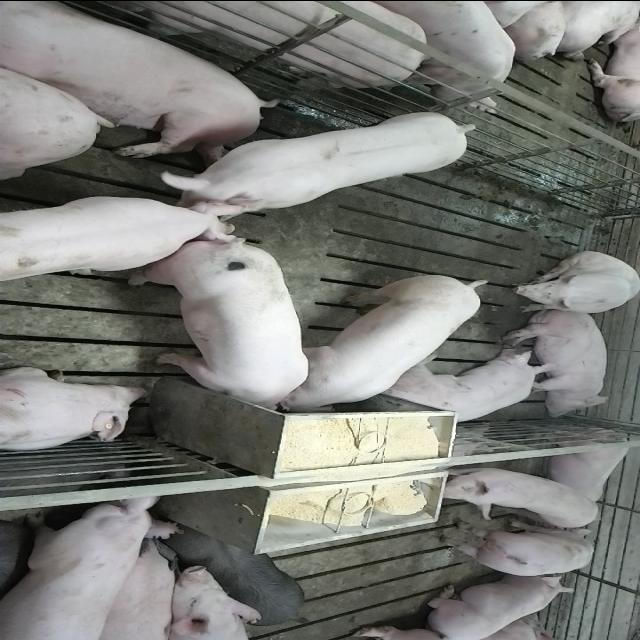Feeding: (126, 243, 308, 419), (280, 270, 496, 411)
Lateral_lying: (499, 307, 612, 416)
Sitting: (504, 250, 638, 314)
Standing: (0, 0, 439, 88), (160, 108, 484, 220), (0, 494, 182, 638), (0, 188, 242, 280), (376, 2, 516, 114), (178, 526, 308, 625), (430, 464, 600, 530), (87, 540, 183, 640), (450, 528, 602, 580)
Sternal_lying: (380, 351, 552, 428), (0, 366, 150, 454), (425, 574, 577, 638), (540, 425, 636, 511)
